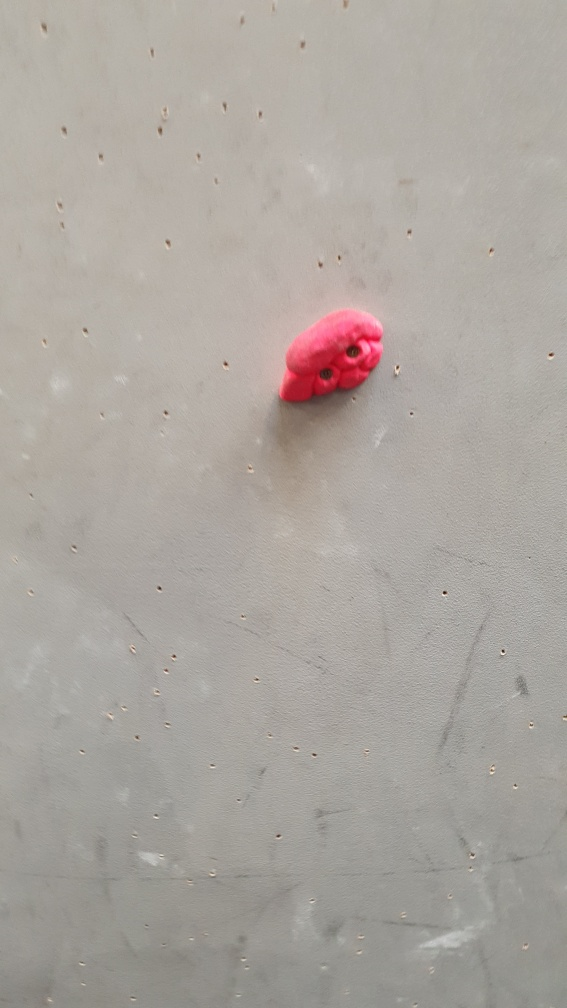Jug: (273, 304, 391, 413)
